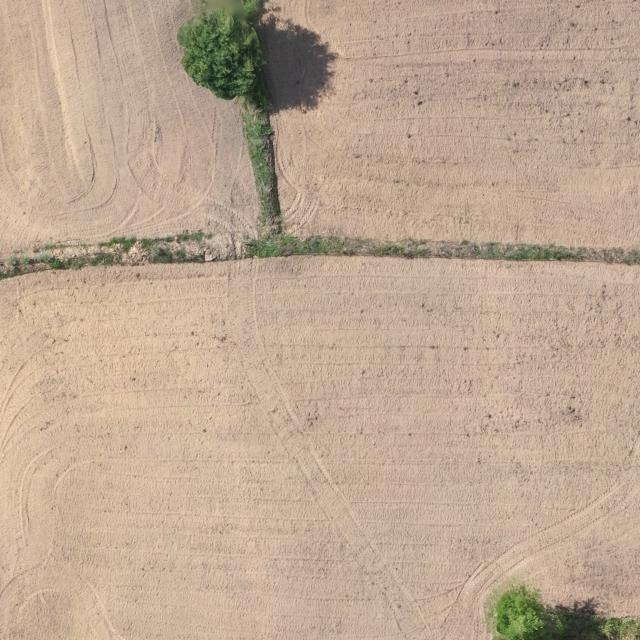Tree: (175, 0, 266, 102), (492, 585, 554, 640)
